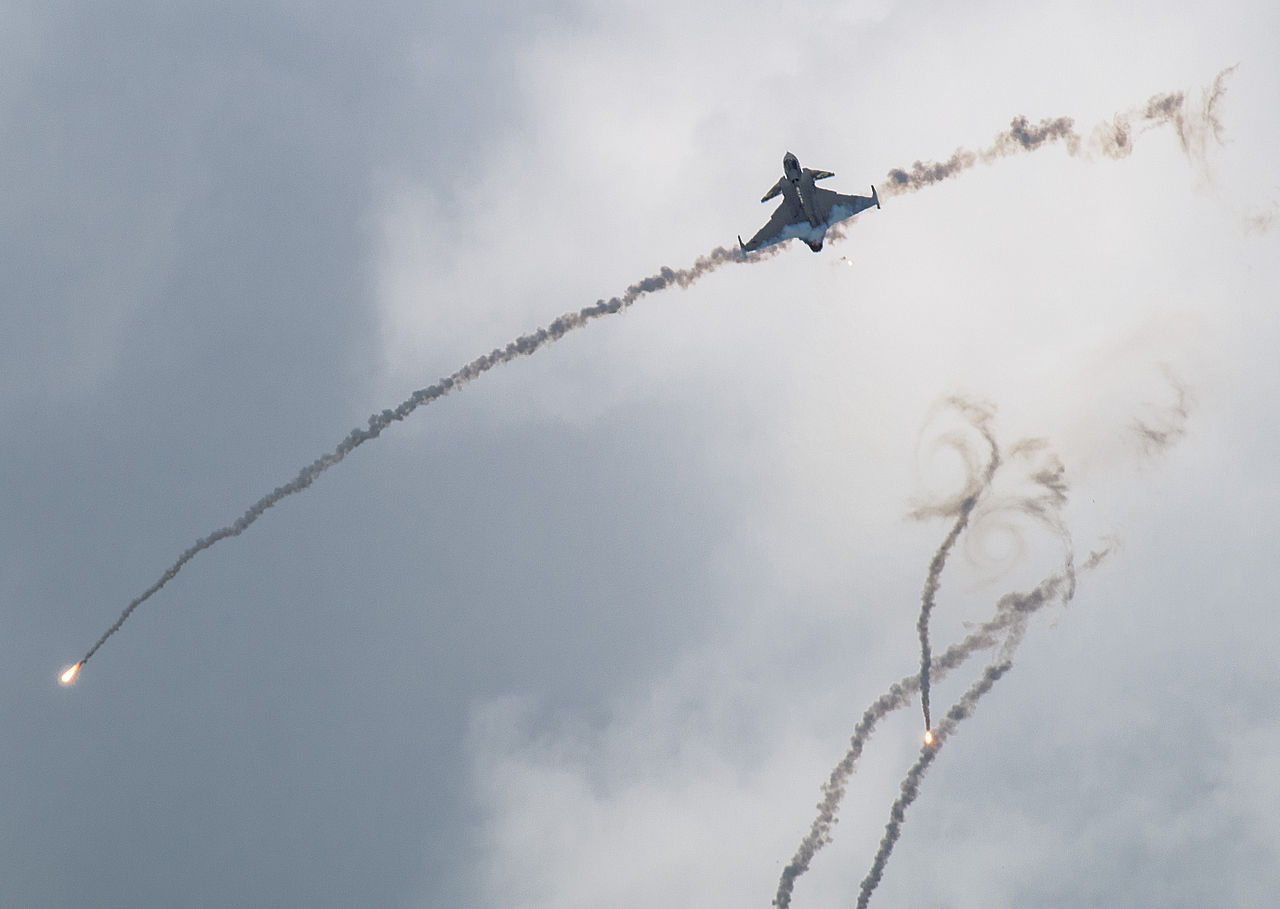JAS39: (737, 147, 881, 259)
